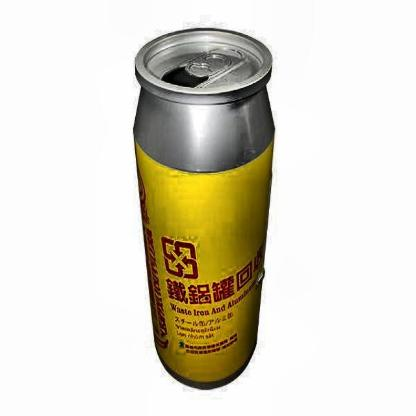Can: (126, 21, 280, 393)
